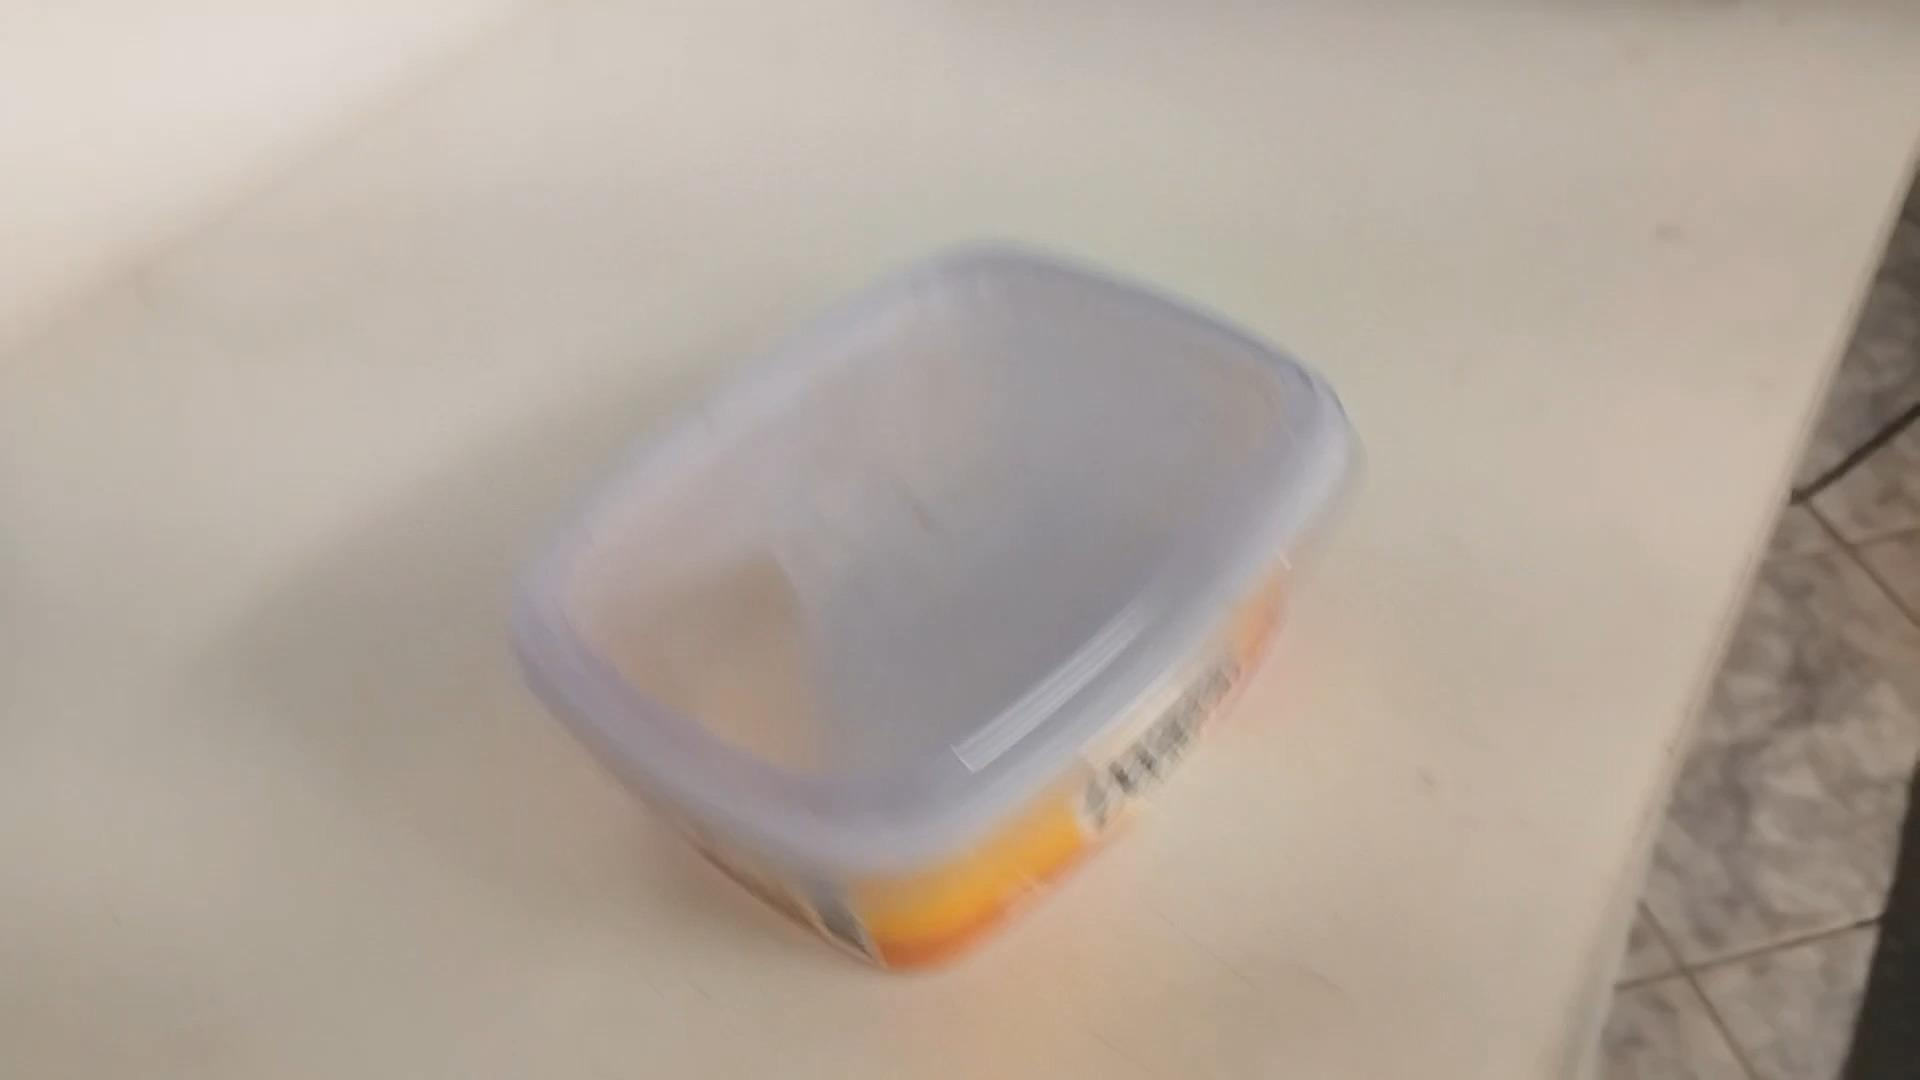butter: (501, 247, 1348, 980)
